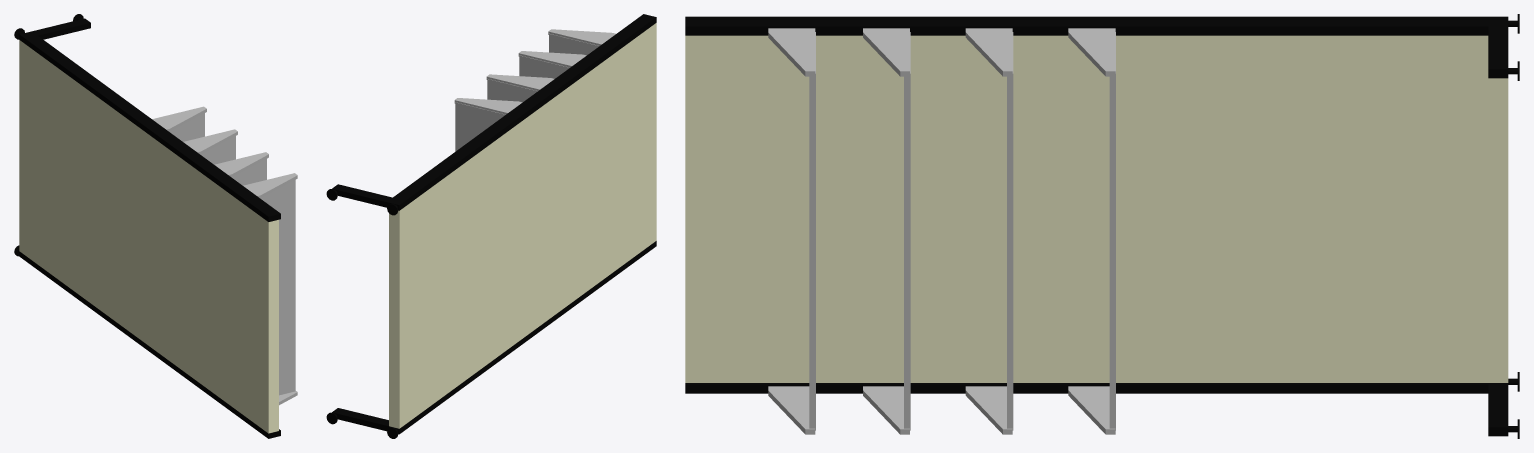
File: nil_link_mesh.dae
The picture shows the model from 3 angles, left to right: view 1: azimuth 30°, elevation 25°; view 2: azimuth 150°, elevation 25°; view 3: azimuth 270°, elevation 25°; orthographic projection. The views are drawn at different scales.
Visible parts, largest first — view 1: nil_link (×8); view 2: nil_link (×9); view 3: nil_link (×9).
Part boxes in pixels (x1=…): nil_link (×8): x1=19, y1=18, x2=297, y2=438; nil_link (×9): x1=332, y1=14, x2=656, y2=434; nil_link (×9): x1=685, y1=16, x2=1508, y2=436.
Bounding box in the file's own units: 0.4 × 1.26 × 2.54.
